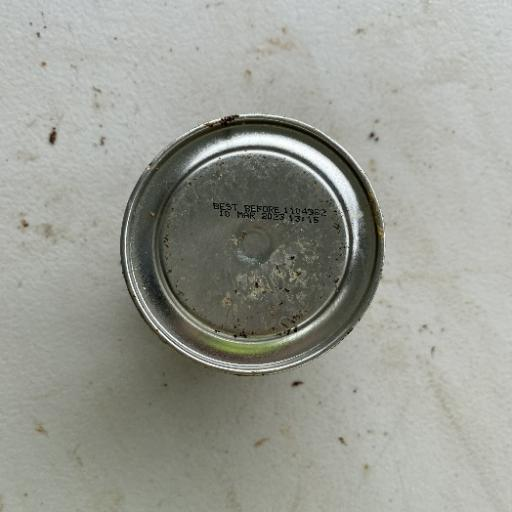Metal: (117, 110, 387, 377)
